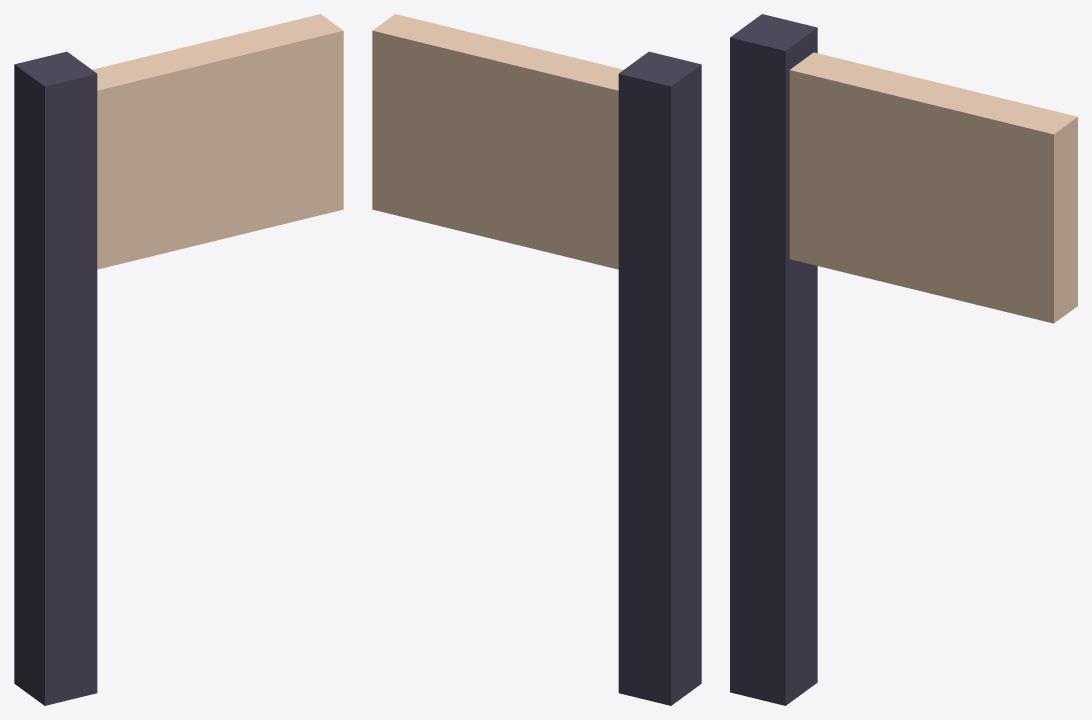
Rendered from flag.glb.
3 views of the same model, side by side, from view 1: azimuth 30°, elevation 25°; view 2: azimuth 150°, elevation 25°; view 3: azimuth 330°, elevation 25° (orthographic). The views are drawn at different scales.
Visible parts, largest first — view 1: Pole, Cloth; view 2: Pole, Cloth; view 3: Cloth, Pole.
Boxes of the visible parts, x1,y1,x2,y2 form: Pole: [14, 51, 97, 705]; Cloth: [92, 14, 343, 269]; Pole: [618, 51, 701, 705]; Cloth: [372, 14, 623, 269]; Cloth: [789, 52, 1077, 323]; Pole: [730, 14, 817, 705].
Bounding box in the file's own units: 0.46 × 0.9 × 0.08.
